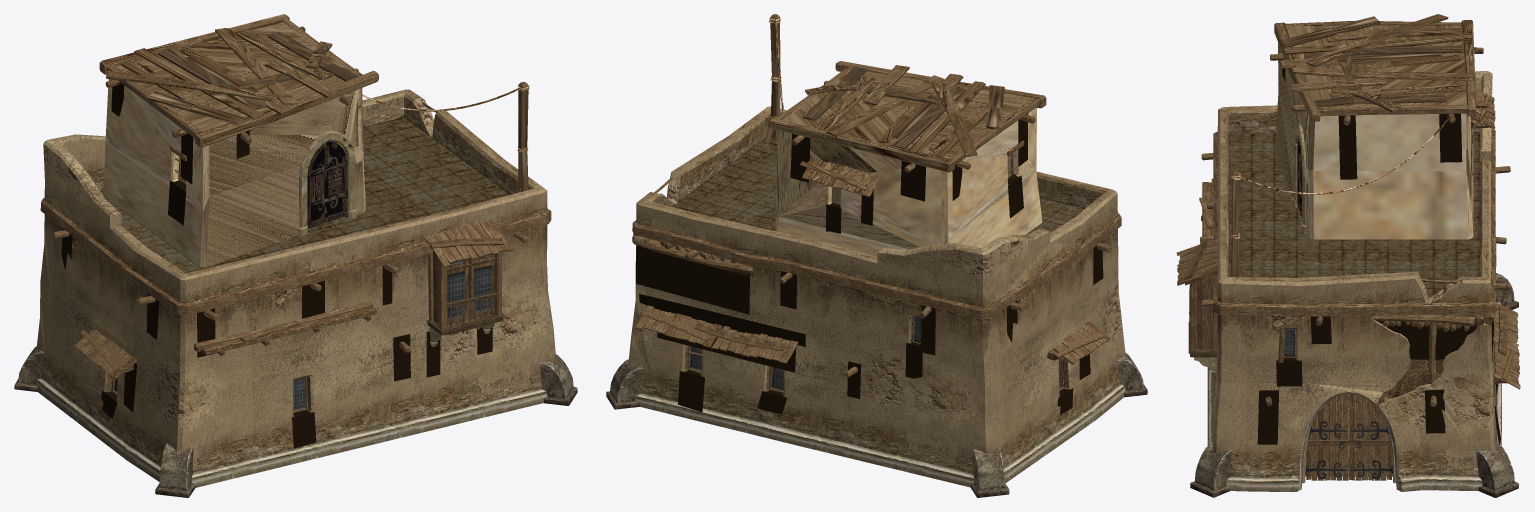
File: oriental_houses_03.dae
3 renders of one model, left to right at view 1: azimuth 30°, elevation 25°; view 2: azimuth 150°, elevation 25°; view 3: azimuth 270°, elevation 25°, orthographic. The views are drawn at different scales.
Visible parts, largest first — view 1: Mesh_Object, Mesh_Object_2; view 2: Mesh_Object, Mesh_Object_2; view 3: Mesh_Object, Mesh_Object_2.
Part boxes in pixels (left/top/right/bottom): Mesh_Object: left=14, top=89, right=577, bottom=497; Mesh_Object_2: left=99, top=14, right=529, bottom=267; Mesh_Object: left=606, top=106, right=1147, bottom=497; Mesh_Object_2: left=764, top=14, right=1046, bottom=256; Mesh_Object: left=1176, top=71, right=1520, bottom=497; Mesh_Object_2: left=1230, top=14, right=1495, bottom=277.
Bounding box in the file's own units: 444 × 322 × 318.
